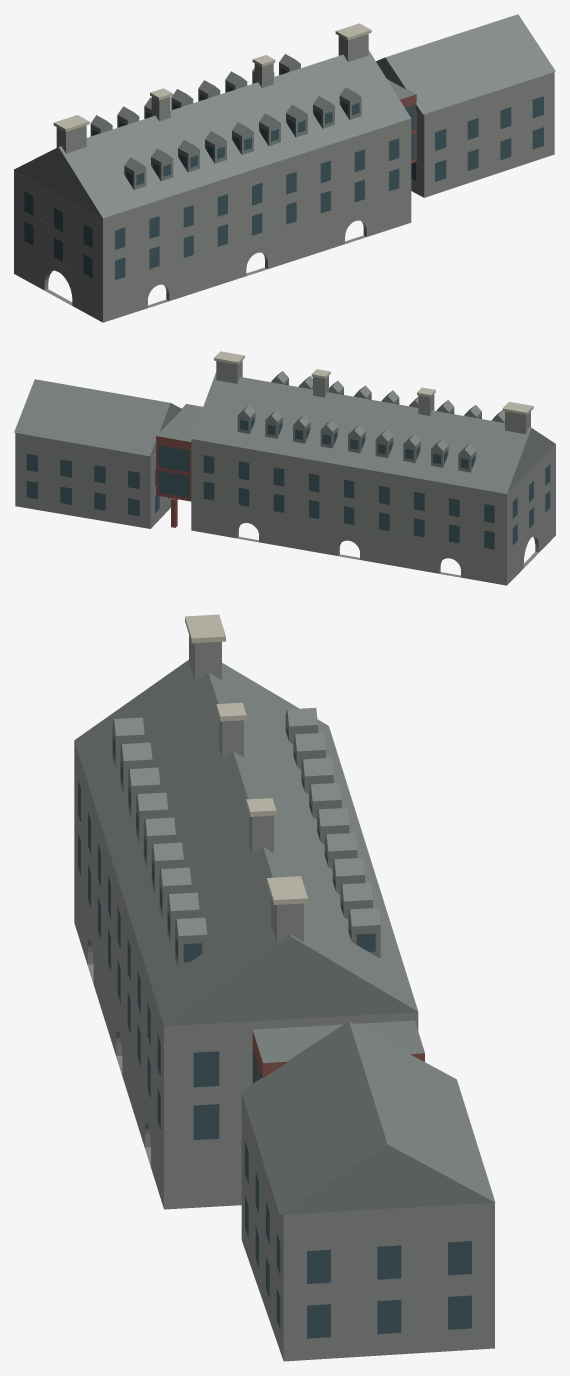
Rendered from moulin-neuf-terrebonne-near.glb.
3 views of the same model, one above another, from view 1: azimuth 30°, elevation 25°; view 2: azimuth 150°, elevation 25°; view 3: azimuth 270°, elevation 25° (orthographic). The views are drawn at different scales.
Parts seen in each view (by area): view 1: moulin-neuf-terrebonne-0-stone, moulin-neuf-terrebonne-0-roof, moulin-neuf-terrebonne-0-glass, moulin-neuf-terrebonne-0-trim; view 2: moulin-neuf-terrebonne-0-stone, moulin-neuf-terrebonne-0-roof, moulin-neuf-terrebonne-0-glass, moulin-neuf-terrebonne-0-red, moulin-neuf-terrebonne-0-trim; view 3: moulin-neuf-terrebonne-0-roof, moulin-neuf-terrebonne-0-stone, moulin-neuf-terrebonne-0-glass, moulin-neuf-terrebonne-0-trim.
Boxes of the visible parts, left/top/right/bottom form: moulin-neuf-terrebonne-0-stone: left=14, top=34, right=554, bottom=322; moulin-neuf-terrebonne-0-roof: left=14, top=14, right=555, bottom=218; moulin-neuf-terrebonne-0-glass: left=24, top=68, right=543, bottom=280; moulin-neuf-terrebonne-0-trim: left=53, top=23, right=371, bottom=131; moulin-neuf-terrebonne-0-stone: left=15, top=361, right=555, bottom=585; moulin-neuf-terrebonne-0-roof: left=14, top=371, right=555, bottom=493; moulin-neuf-terrebonne-0-glass: left=26, top=383, right=550, bottom=549; moulin-neuf-terrebonne-0-red: left=156, top=436, right=191, bottom=527; moulin-neuf-terrebonne-0-trim: left=214, top=351, right=533, bottom=414; moulin-neuf-terrebonne-0-roof: left=74, top=660, right=495, bottom=1214; moulin-neuf-terrebonne-0-stone: left=74, top=635, right=494, bottom=1361; moulin-neuf-terrebonne-0-glass: left=78, top=726, right=471, bottom=1338; moulin-neuf-terrebonne-0-trim: left=185, top=614, right=307, bottom=904.
Bounding box in the file's own units: 58.81 × 18.3 × 23.12.
